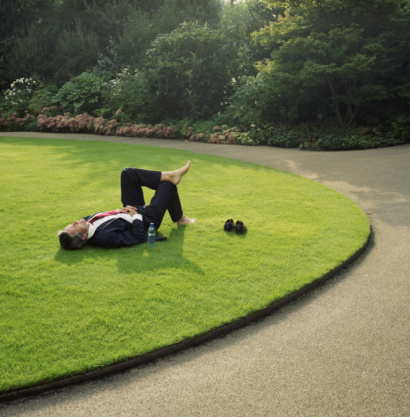deitado: (116, 144, 183, 236)
